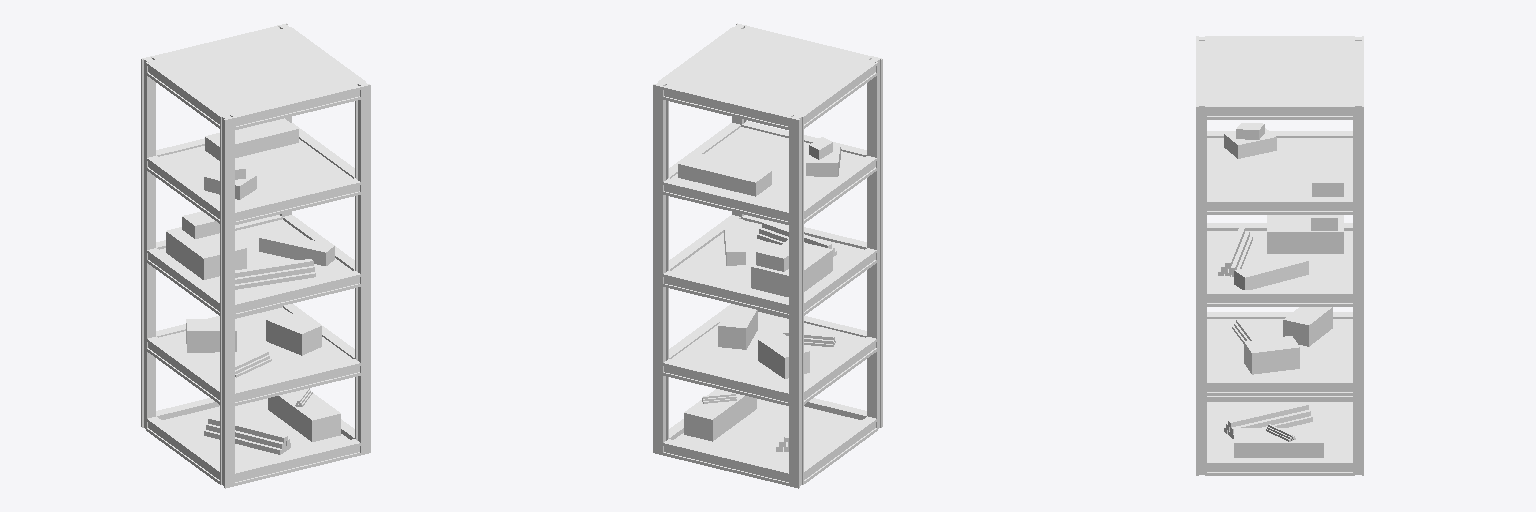
Rendered from tower2-1.obj.
3 renders of one model, left to right at view 1: azimuth 30°, elevation 25°; view 2: azimuth 150°, elevation 25°; view 3: azimuth 270°, elevation 25°, orthographic.
Bounding box in the file's own units: 12.08 × 29.2 × 12.07.